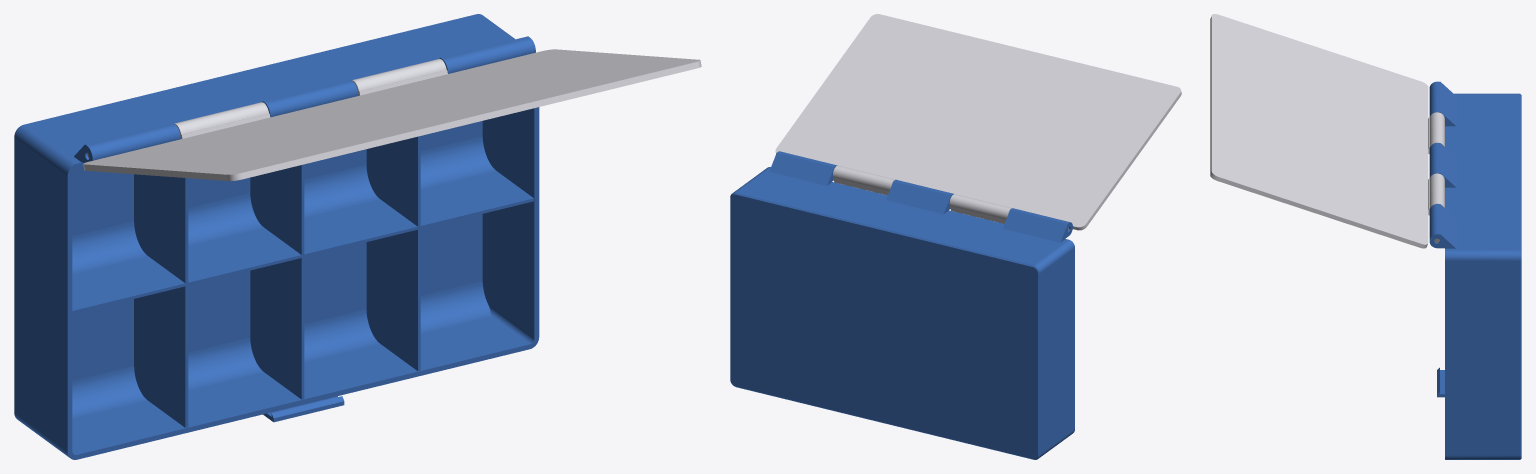
Rendered from variant-COLS_4-ROWS_2.glb.
3 renders of one model, left to right at view 1: azimuth 30°, elevation 25°; view 2: azimuth 150°, elevation 25°; view 3: azimuth 270°, elevation 25°, orthographic. The views are drawn at different scales.
Visible parts, largest first — view 1: 0:Kasten, 1:Deckel; view 2: 0:Kasten, 1:Deckel; view 3: 1:Deckel, 0:Kasten.
Part boxes in pixels (box(x1,y1,x2,y2)): 0:Kasten: box(14, 14, 539, 459); 1:Deckel: box(83, 49, 701, 181); 0:Kasten: box(730, 151, 1074, 459); 1:Deckel: box(775, 14, 1181, 230); 1:Deckel: box(1210, 14, 1444, 248); 0:Kasten: box(1429, 81, 1521, 459).
Bounding box in the file's own units: 200 × 167 × 162.
